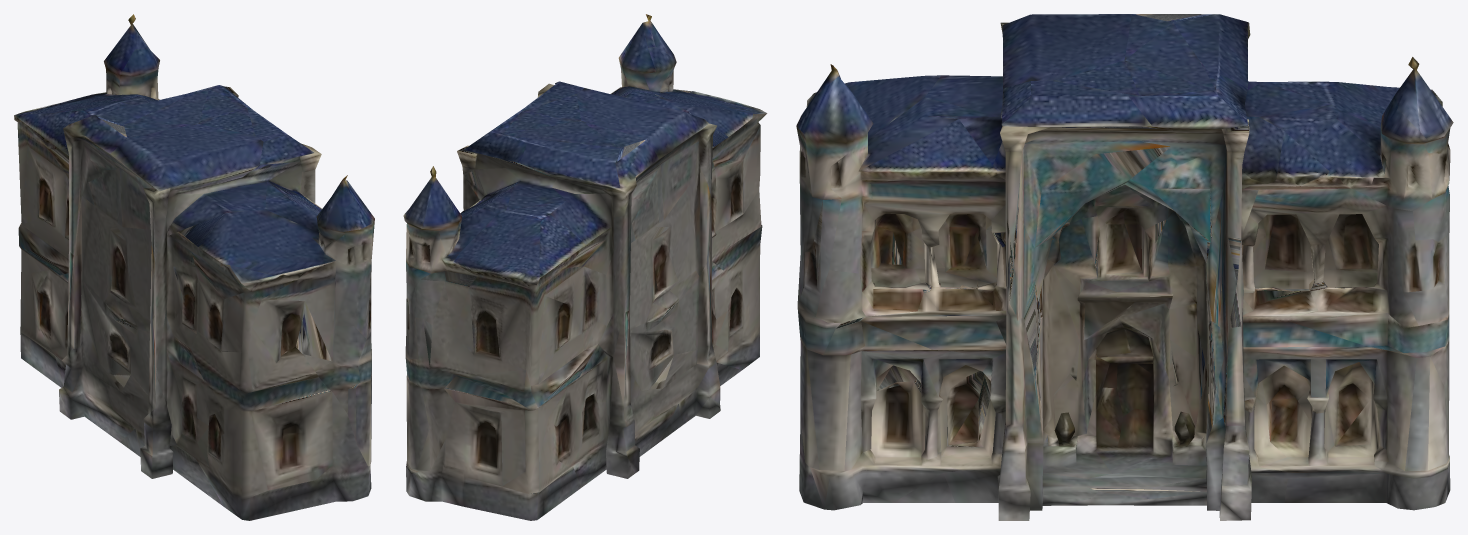
The model's file is house_noble_0.glb.
3 views of the same model, side by side, from view 1: azimuth 30°, elevation 25°; view 2: azimuth 150°, elevation 25°; view 3: azimuth 270°, elevation 25° (orthographic). The views are drawn at different scales.
Visible parts, largest first — view 1: tripo_node_292aeb95-5a95-431a-9e95-e4d1b807b511; view 2: tripo_node_292aeb95-5a95-431a-9e95-e4d1b807b511; view 3: tripo_node_292aeb95-5a95-431a-9e95-e4d1b807b511.
Part boxes in pixels (<box>): tripo_node_292aeb95-5a95-431a-9e95-e4d1b807b511: <box>14,14,374,520</box>; tripo_node_292aeb95-5a95-431a-9e95-e4d1b807b511: <box>403,14,767,520</box>; tripo_node_292aeb95-5a95-431a-9e95-e4d1b807b511: <box>796,14,1453,520</box>.
Bounding box in the file's own units: 0.4063 × 0.7206 × 0.9789.
1 material, 1 textured.
